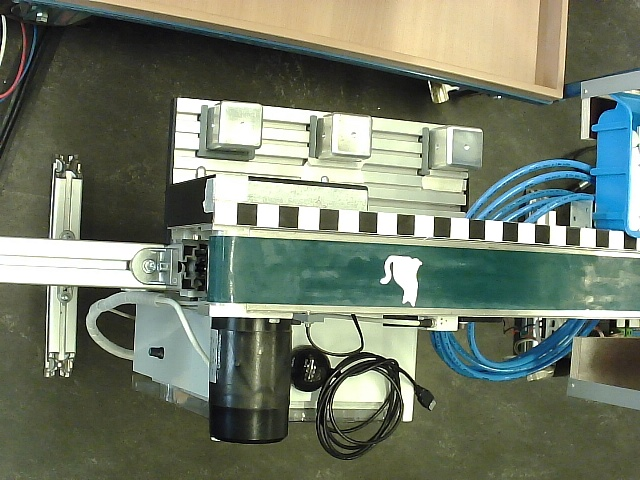cat: (380, 255, 422, 308)
